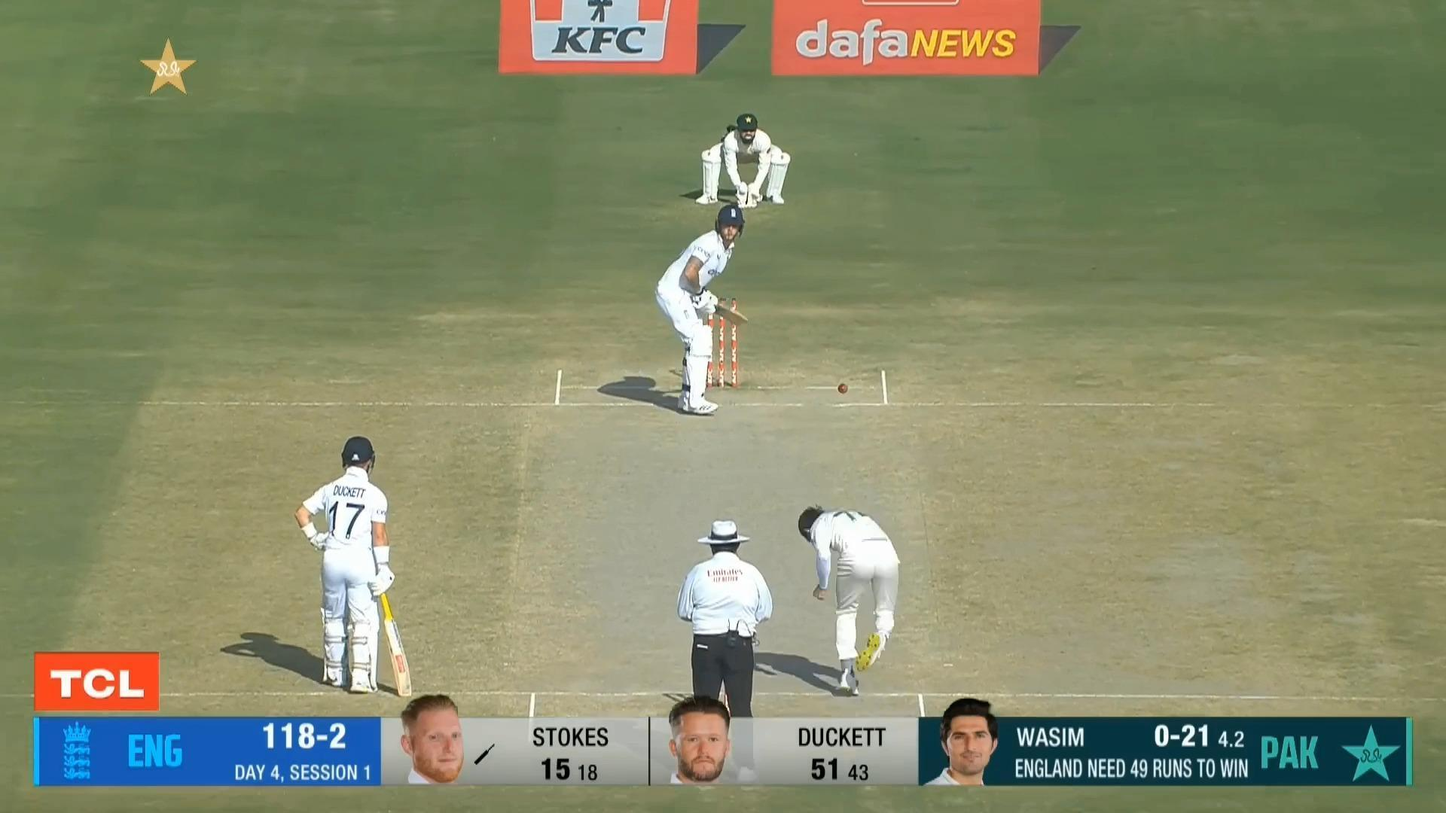BM 1: (654, 206, 749, 416)
BO: (796, 502, 905, 698)
